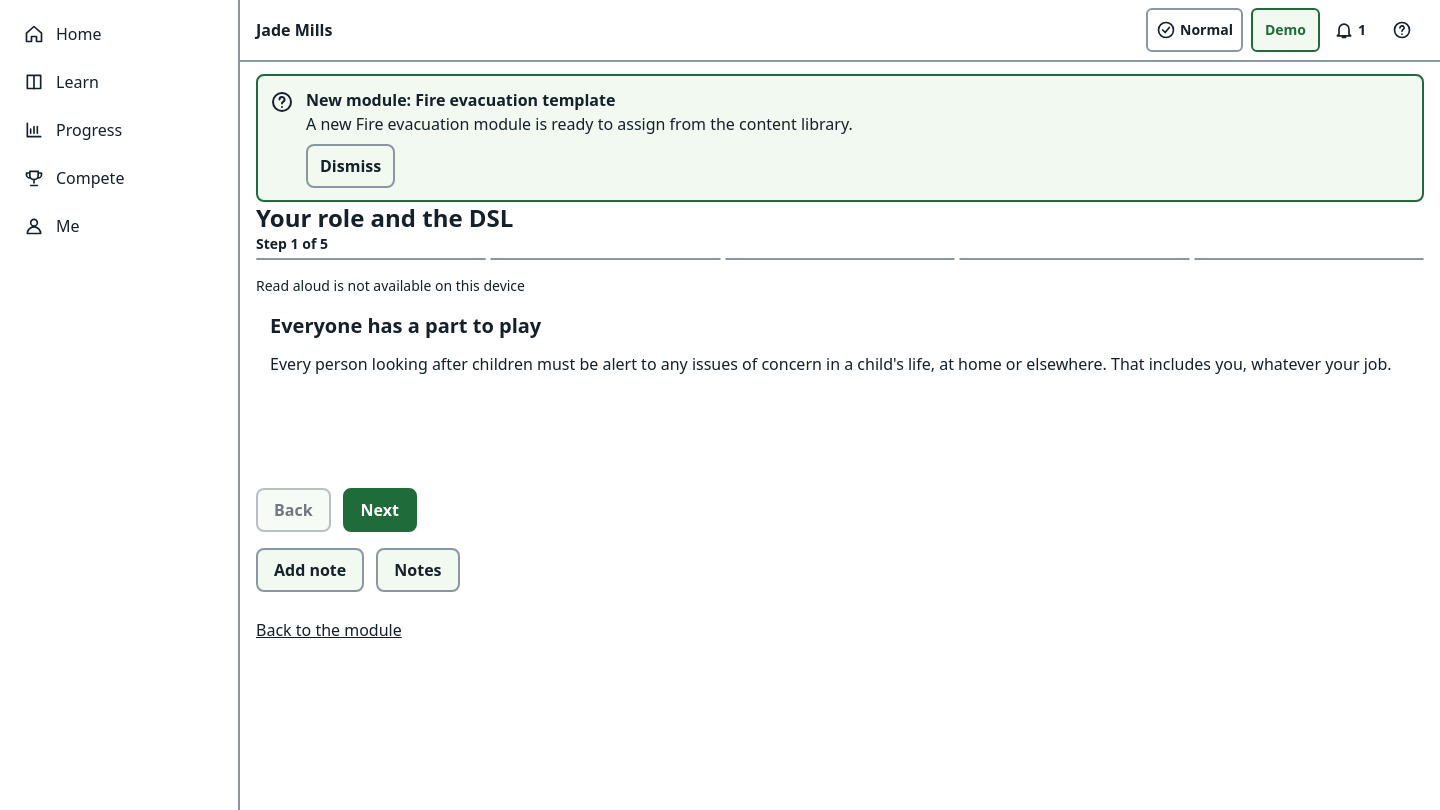
Test: S5 lesson player › shows key points as a list
This screenshot has width=1440, height=810.
Click the button "Next" at (380, 510), box [343, 488, 417, 532]
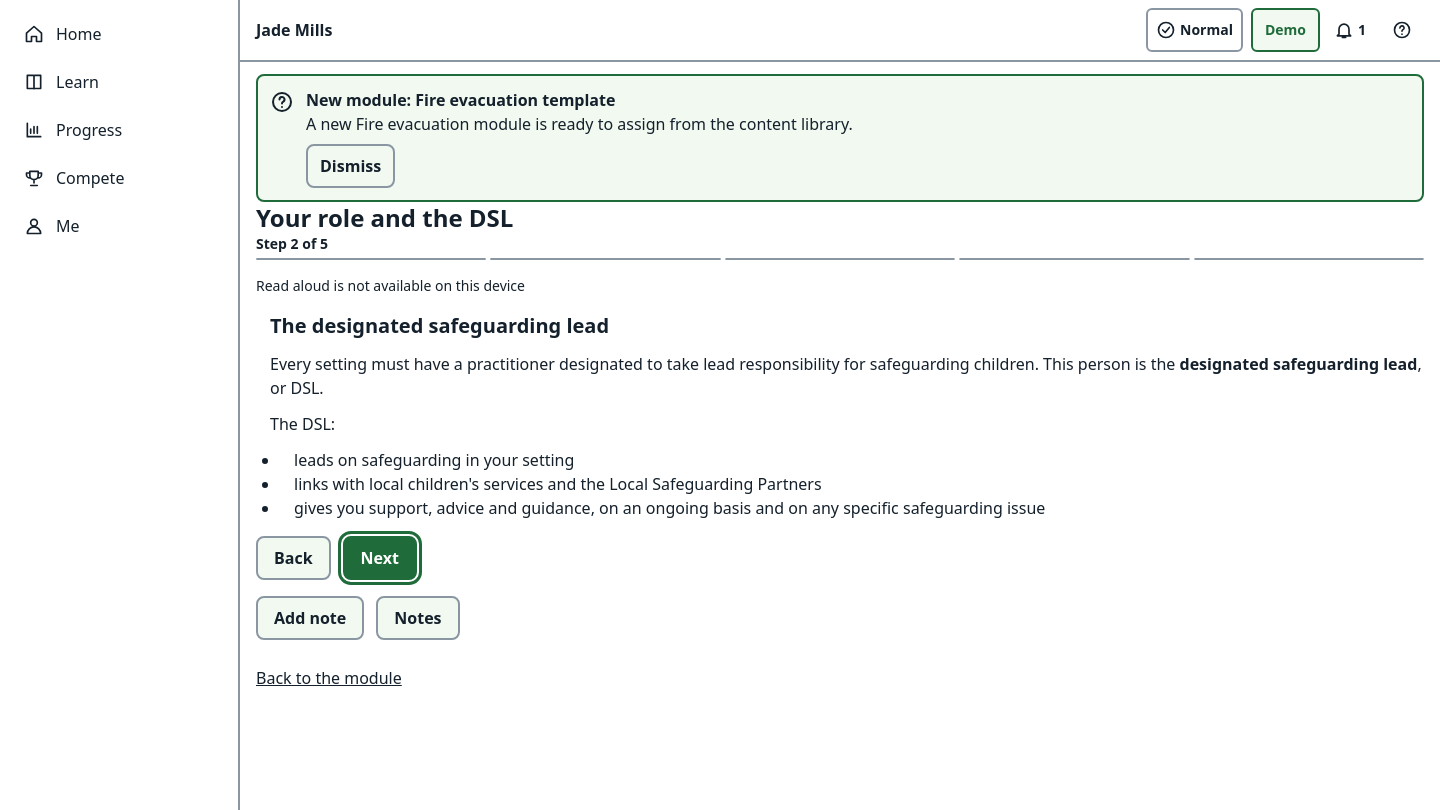
Click the button "Next" at (380, 558), box [343, 536, 417, 580]
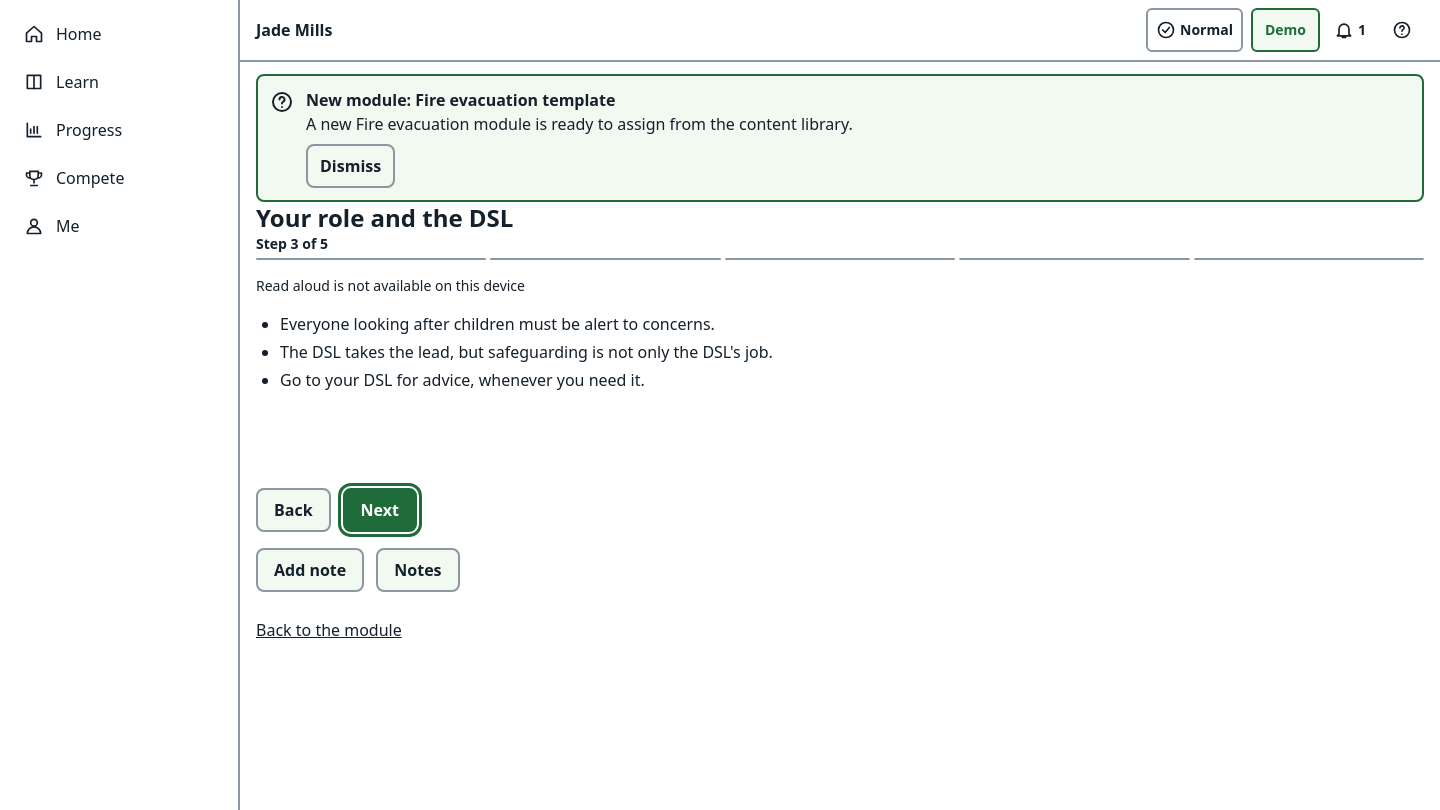
Expected: the list item "Everyone looking after children must be alert to concerns." is shown, [280, 313, 715, 335]
Expected: the 7th list item reads "The DSL takes the lead, but safeguarding is not only the DSL's job.", [280, 341, 773, 363]
Expected: the list item "Go to your DSL for advice, whenever you need it." is shown, [280, 369, 645, 391]
